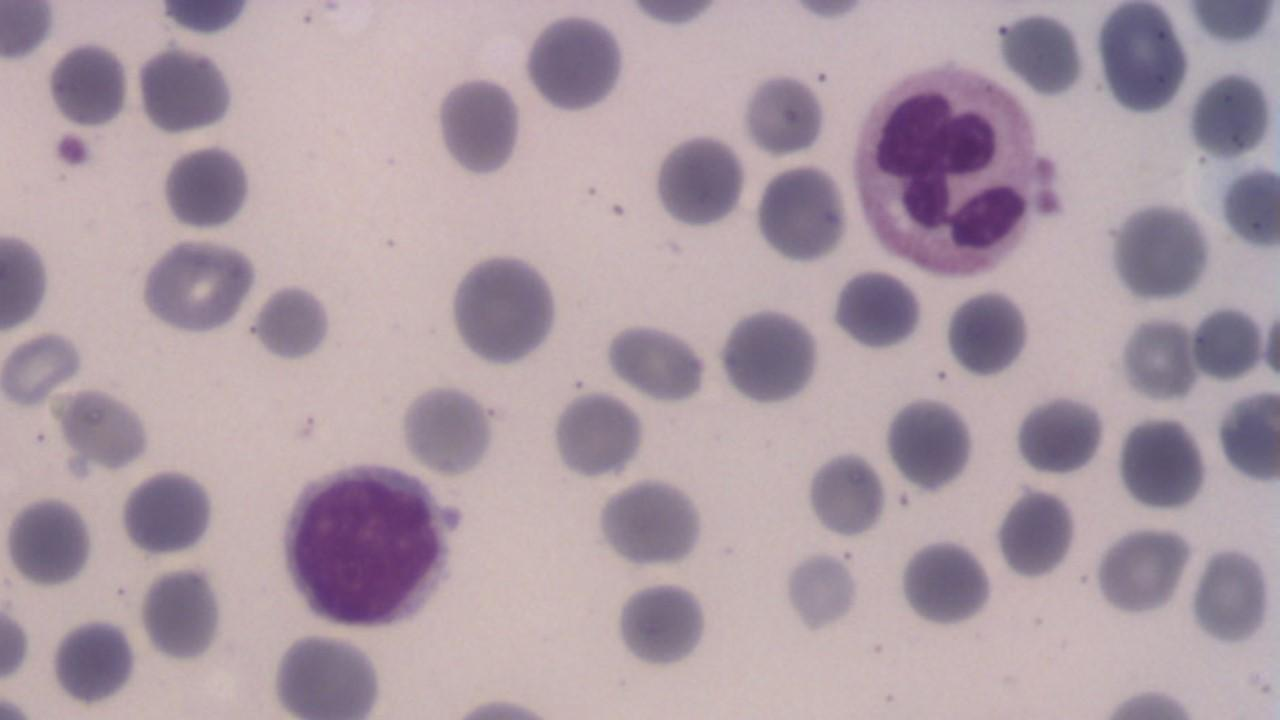Platelets: (521, 9, 631, 116), (714, 302, 822, 409), (588, 478, 710, 572), (430, 71, 528, 180), (395, 383, 501, 478), (116, 465, 220, 557), (157, 140, 258, 234), (608, 579, 712, 670), (2, 492, 95, 591), (138, 564, 226, 666), (941, 285, 1032, 382), (992, 483, 1078, 584), (46, 614, 140, 706), (828, 264, 924, 354), (998, 6, 1088, 100), (739, 67, 829, 160), (1010, 391, 1106, 478), (250, 281, 338, 362), (780, 550, 862, 636), (1217, 162, 1279, 252), (158, 1, 255, 37), (49, 129, 96, 171)
RBC: (444, 248, 565, 370), (136, 235, 257, 336), (521, 8, 629, 117), (1104, 199, 1214, 306), (714, 301, 824, 408), (1094, 0, 1190, 119), (264, 628, 393, 716), (592, 476, 710, 570), (750, 160, 850, 265), (648, 130, 747, 232), (1091, 522, 1193, 620), (134, 43, 238, 139), (881, 392, 978, 494), (546, 386, 646, 482), (1113, 414, 1209, 514), (1, 492, 98, 590), (896, 534, 996, 629), (600, 320, 710, 405), (1187, 542, 1273, 650), (828, 265, 926, 352), (46, 615, 139, 706), (1185, 66, 1275, 160), (1010, 392, 1108, 478), (739, 68, 830, 160), (941, 287, 1031, 380), (802, 447, 888, 541), (993, 485, 1077, 581), (44, 39, 131, 129), (1116, 314, 1200, 404), (782, 550, 862, 634), (1216, 384, 1280, 485), (1, 221, 54, 336), (1221, 163, 1279, 253), (622, 0, 724, 28), (1260, 299, 1280, 390)
WBC: (491, 0, 1280, 720), (842, 54, 1059, 286), (272, 456, 470, 636), (522, 6, 634, 113), (1094, 0, 1190, 113), (131, 43, 242, 140), (118, 466, 220, 559), (151, 3, 258, 35)
